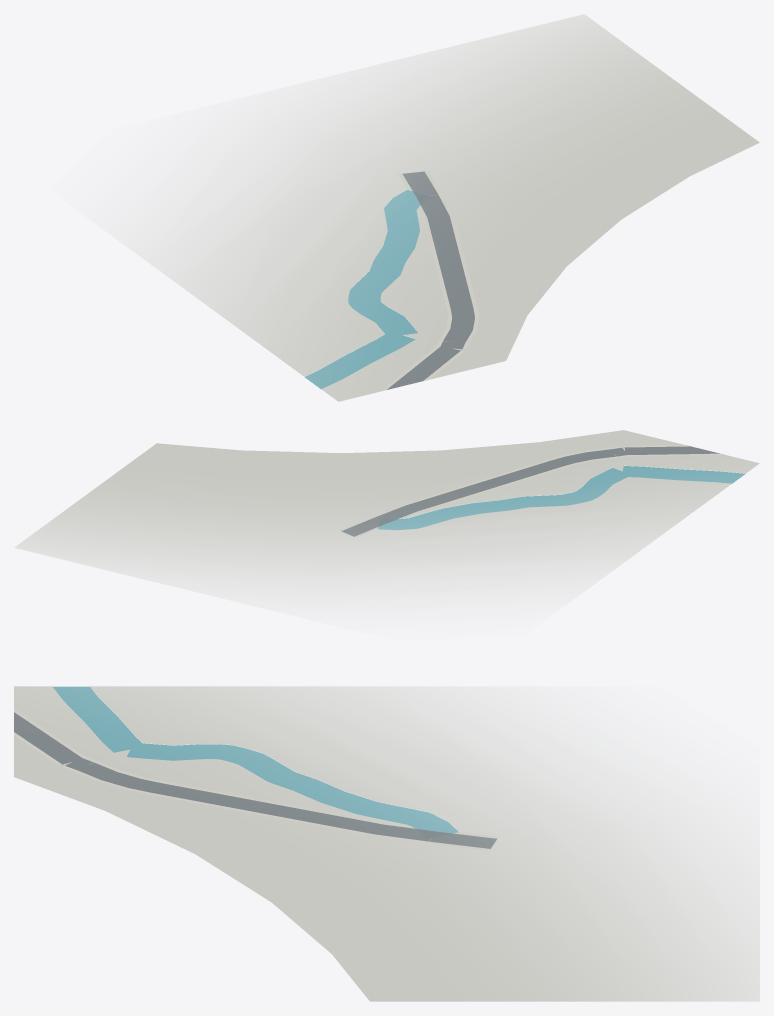
3 renders of one model, top to bottom at view 1: azimuth 30°, elevation 25°; view 2: azimuth 150°, elevation 25°; view 3: azimuth 270°, elevation 25°, orthographic. The views are drawn at different scales.
Visible parts, largest first — view 1: city; view 2: city; view 3: city.
Boxes of the visible parts, x1,y1,x2,y2 form: city: [101, 14, 759, 401]; city: [14, 430, 759, 614]; city: [14, 686, 759, 1001].
Size of the model in its own units: 500 by 0.4 by 500.
